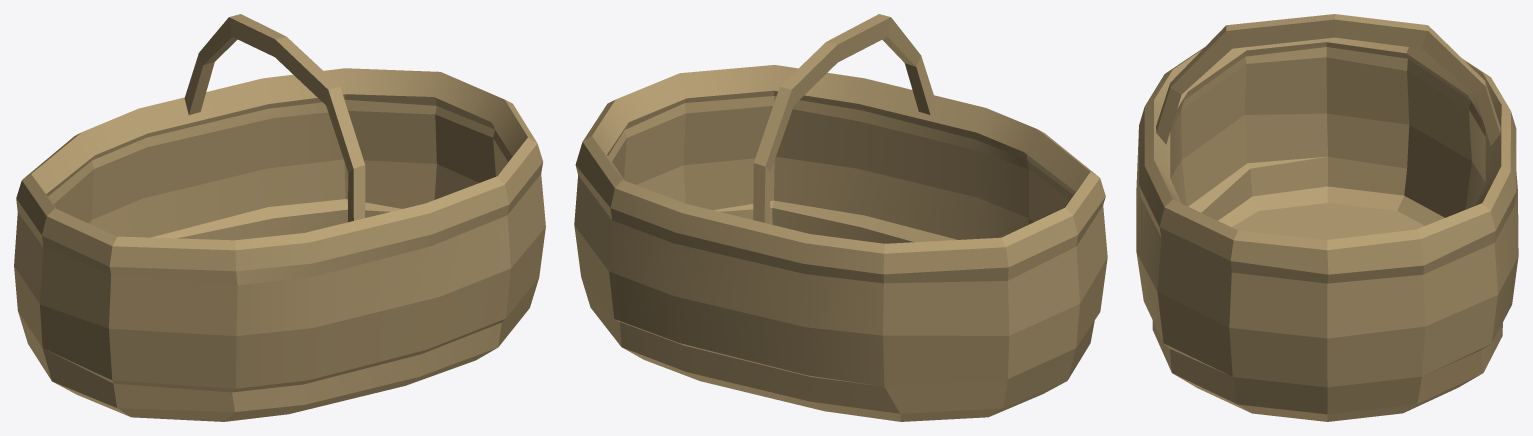
Rendered from SM_Prop_Basket_04.glb.
The picture shows the model from 3 angles, left to right: view 1: azimuth 30°, elevation 25°; view 2: azimuth 150°, elevation 25°; view 3: azimuth 270°, elevation 25°; orthographic projection.
Parts seen in each view (by area): view 1: SM_Prop_Basket_04; view 2: SM_Prop_Basket_04; view 3: SM_Prop_Basket_04.
Boxes of the visible parts, x1=… form: SM_Prop_Basket_04: x1=14, y1=14, x2=545, y2=421; SM_Prop_Basket_04: x1=574, y1=14, x2=1107, y2=421; SM_Prop_Basket_04: x1=1136, y1=14, x2=1518, y2=421.
Size of the model in its own units: 1.26 by 0.7642 by 0.8571.
1 material, 1 textured.
